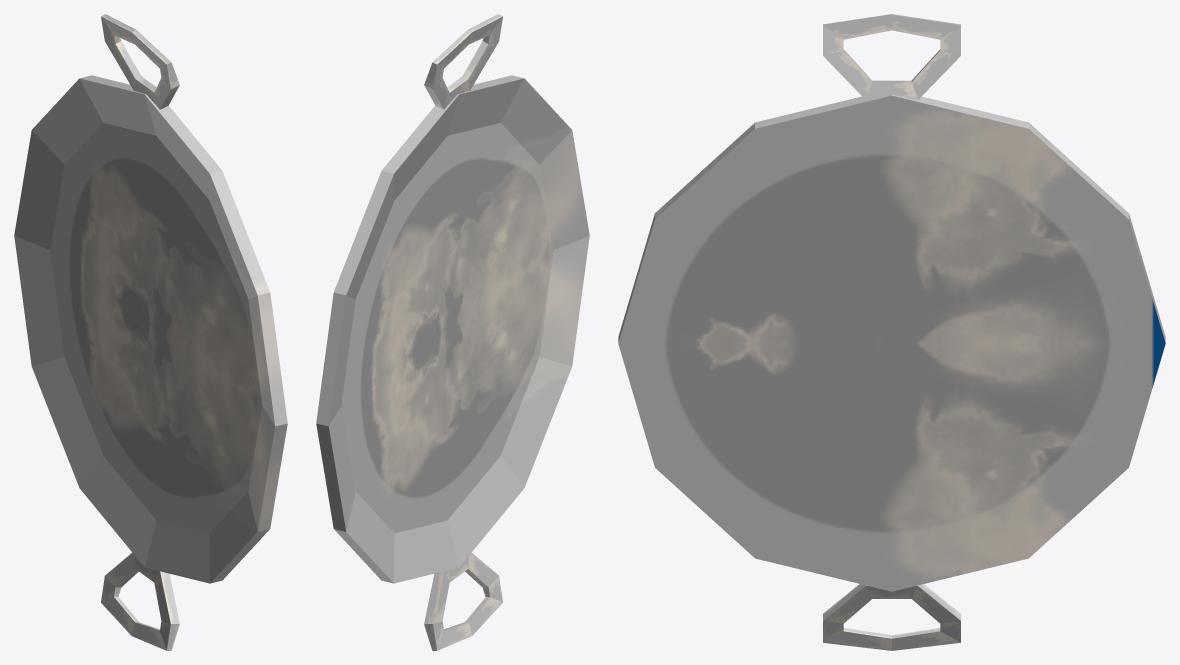
Rendered from prato.fbx.
The picture shows the model from 3 angles, left to right: view 1: azimuth 30°, elevation 25°; view 2: azimuth 150°, elevation 25°; view 3: azimuth 270°, elevation 25°; orthographic projection. The views are drawn at different scales.
Parts seen in each view (by area): view 1: prato; view 2: prato; view 3: prato.
Boxes of the visible parts, bbox=[...] form: prato: bbox=[14, 14, 287, 650]; prato: bbox=[316, 14, 589, 650]; prato: bbox=[618, 14, 1165, 650].
Bounding box in the file's own units: 4.2 × 94.96 × 74.09.
